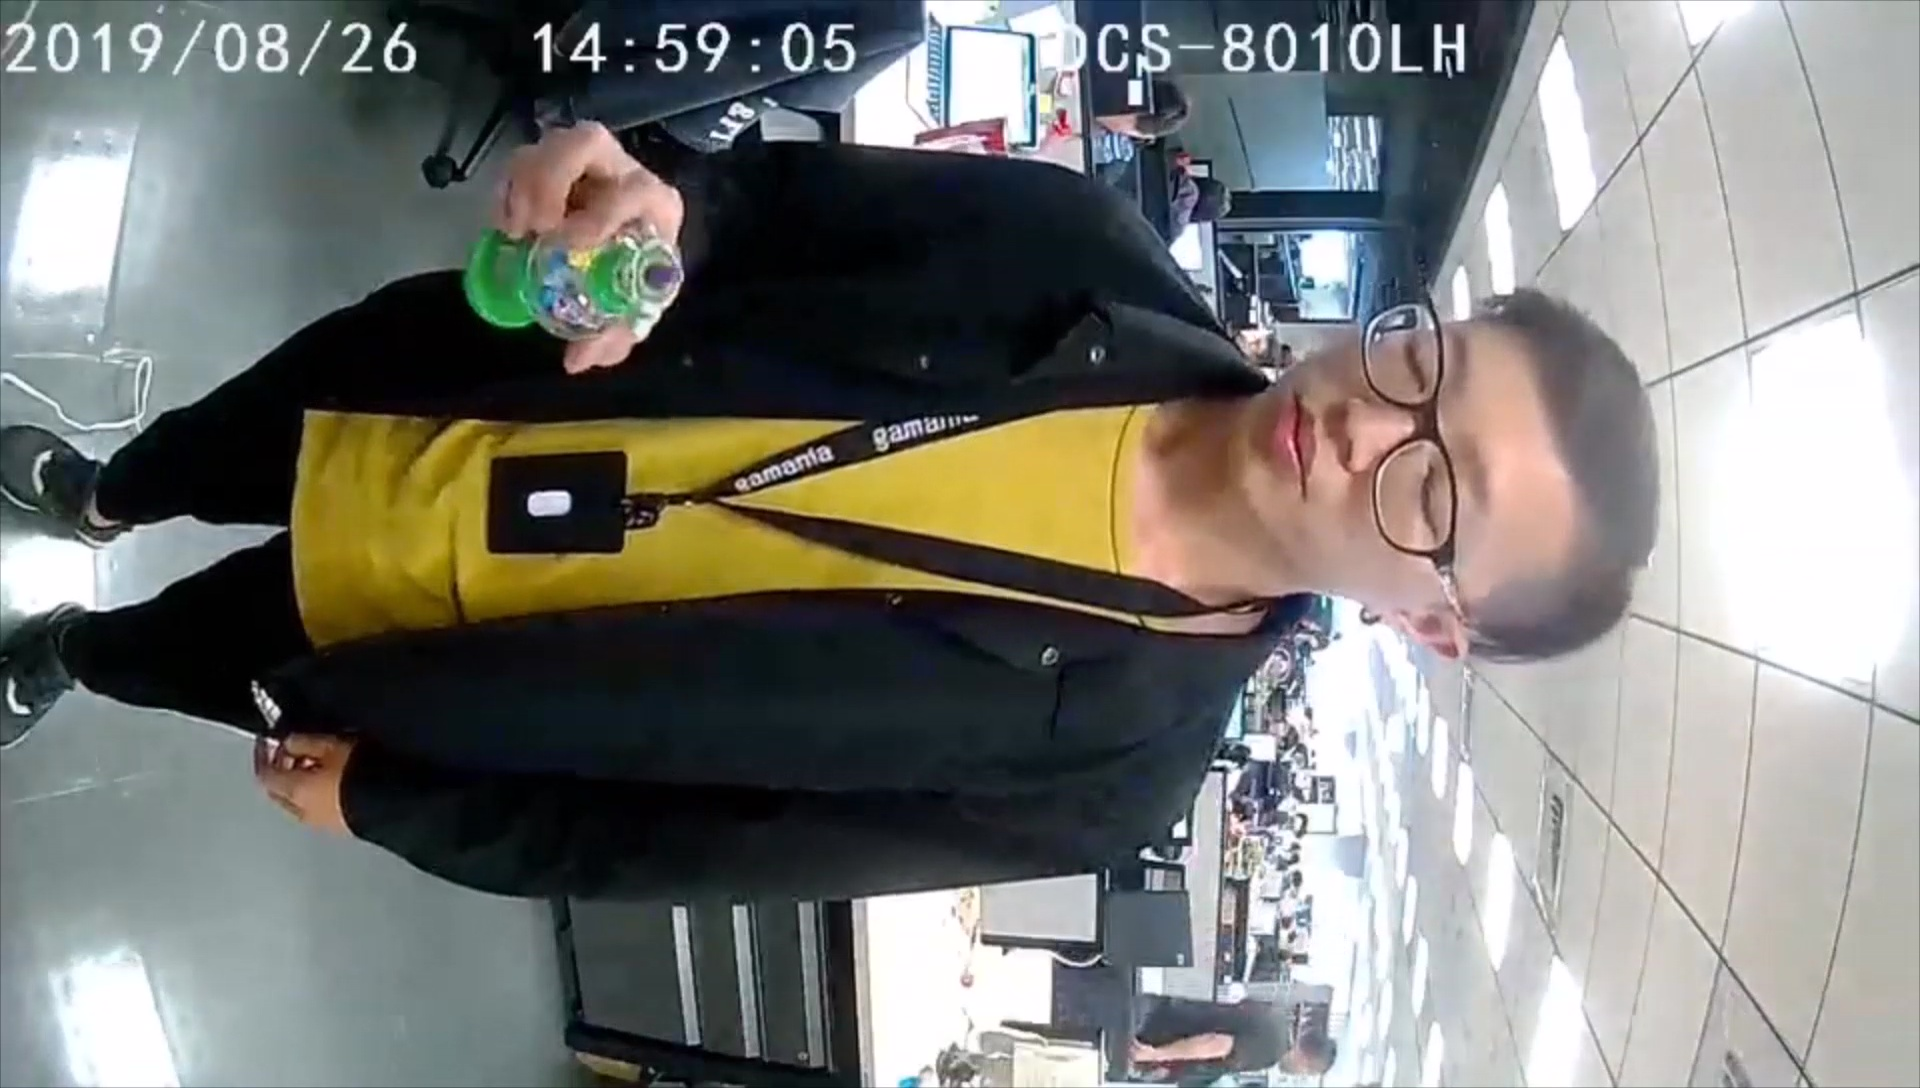buzz: (465, 208, 684, 344)
